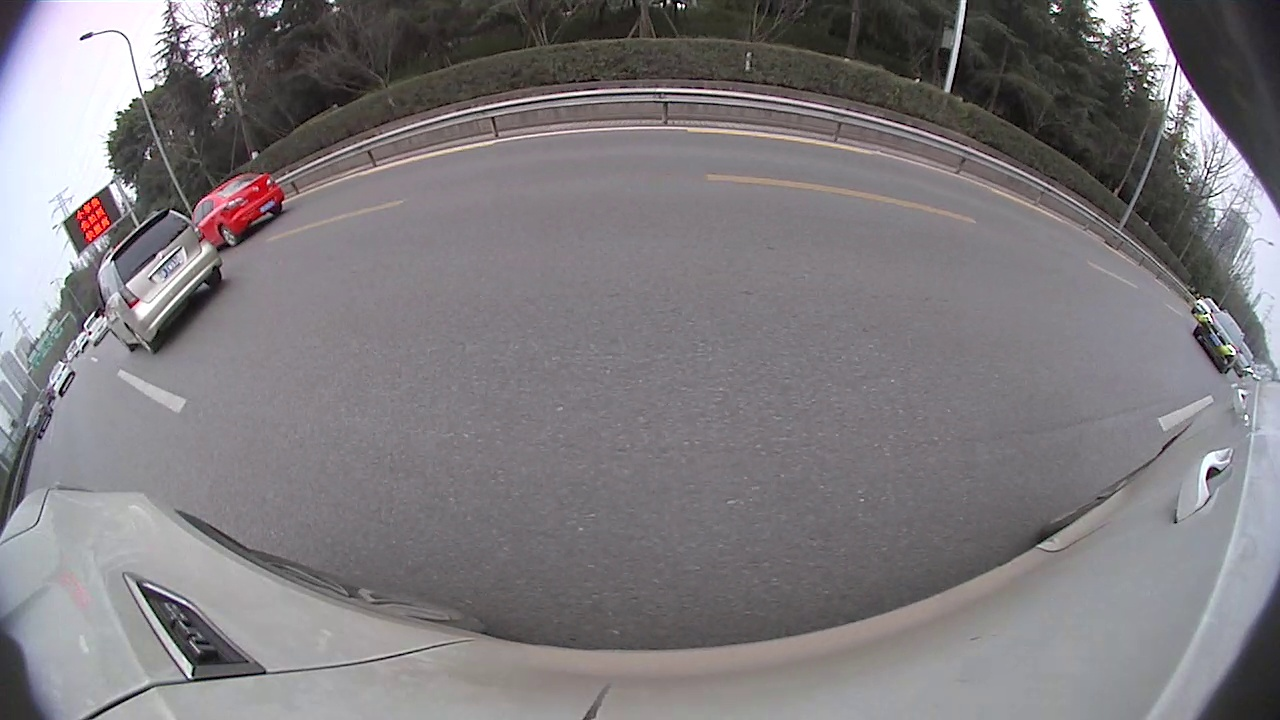bus: (973, 102, 1278, 412), (803, 128, 1010, 236), (709, 147, 744, 180)
car: (2, 154, 364, 480), (596, 134, 698, 220), (453, 151, 554, 216), (718, 144, 803, 202), (550, 159, 592, 193)
front: (286, 232, 361, 318), (1067, 241, 1133, 322), (826, 177, 844, 201), (719, 174, 732, 194)
rear: (919, 193, 944, 228), (517, 187, 533, 211), (741, 173, 755, 200)
